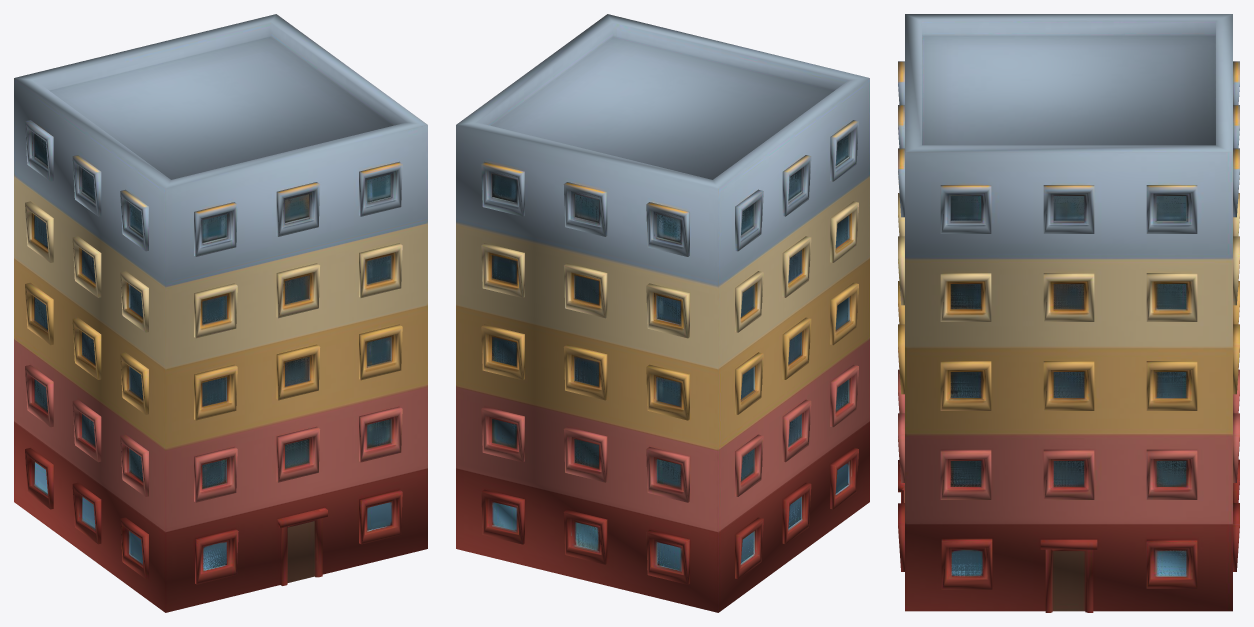
The model's file is selected.glb.
3 renders of one model, left to right at view 1: azimuth 30°, elevation 25°; view 2: azimuth 150°, elevation 25°; view 3: azimuth 270°, elevation 25°, orthographic. The views are drawn at different scales.
Visible parts, largest first — view 1: tripo_node_30b59dd6-eb30-45ce-bf8c-72c984e06e6d; view 2: tripo_node_30b59dd6-eb30-45ce-bf8c-72c984e06e6d; view 3: tripo_node_30b59dd6-eb30-45ce-bf8c-72c984e06e6d.
Part boxes in pixels (x1,y1,x2,y2): tripo_node_30b59dd6-eb30-45ce-bf8c-72c984e06e6d: [14, 14, 427, 612]; tripo_node_30b59dd6-eb30-45ce-bf8c-72c984e06e6d: [456, 14, 869, 612]; tripo_node_30b59dd6-eb30-45ce-bf8c-72c984e06e6d: [898, 14, 1239, 612].
Size of the model in its own units: 0.6738 by 0.998 by 0.6738.
Materials: 1 (1 with a texture image).
